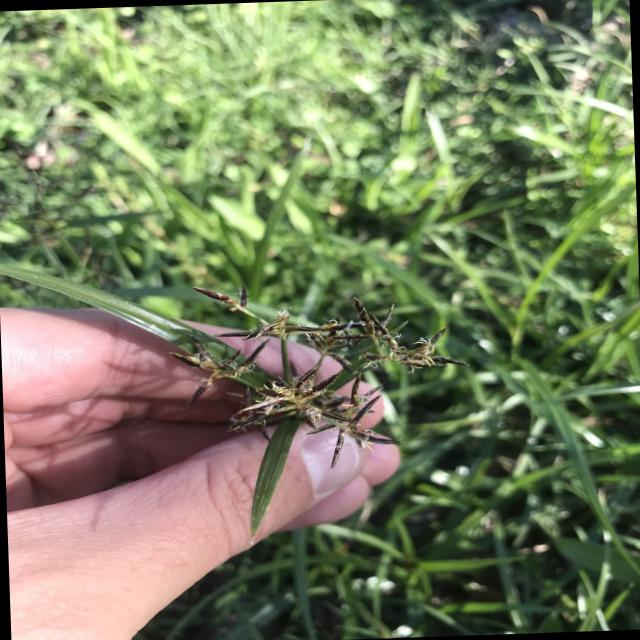cyperus: (156, 270, 464, 470)
